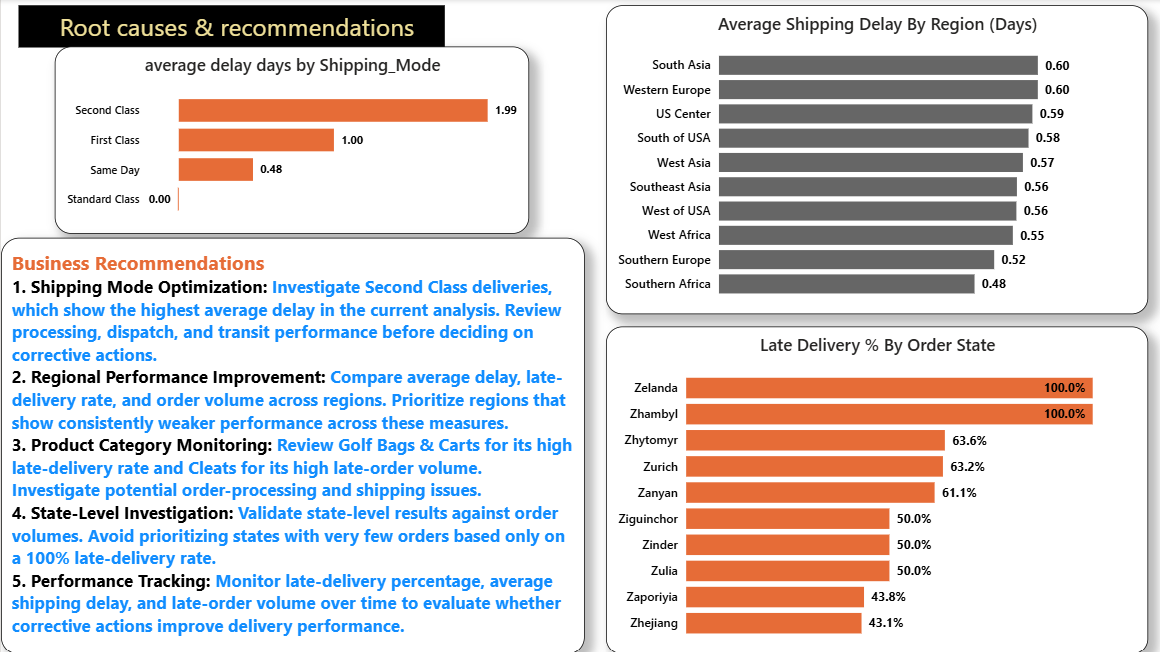

The dashboard page shown, as its layout file describes it:
{"tool":"powerbi","page":{"name":"Page 3","canvas":[1280,720],"ordinal":2},"visuals":[{"type":"textbox","box":[19.8,6.6,468,46.1],"z":0},{"type":"clusteredBarChart","title":"Average Shipping Delay By Region (Days)","fields":{"Category":["DataCoSupplyChainDataset1.Order_Region"],"Y":["DataCoSupplyChainDataset1.average delay days"]},"box":[664.1,6.6,594.9,339.4],"z":1000},{"type":"clusteredBarChart","fields":{"Category":["DataCoSupplyChainDataset1.Shipping_Mode"],"Y":["DataCoSupplyChainDataset1.average delay days"]},"box":[59.3,52.7,520.7,206],"z":2000},{"type":"clusteredBarChart","title":"Late Delivery % By Order State","fields":{"Category":["DataCoSupplyChainDataset1.Order_State"],"Y":["DataCoSupplyChainDataset1.Late Delivery %"]},"box":[664.1,359.2,594.9,360.9],"z":3000},{"type":"textbox","box":[0,262,641,458.1],"z":4000}]}

Visuals, with their boxes in screenshot pixels (x1, y1, x2, y2), scaled from the page's 1280x720 canvas onto the 1160x652 screenshot:
textbox: 18,6,442,48
"Average Shipping Delay By Region (Days)" clusteredBarChart: 602,6,1141,313
clusteredBarChart - DataCoSupplyChainDataset1.Shipping_Mode x DataCoSupplyChainDataset1.average delay days: 54,48,526,234
"Late Delivery % By Order State" clusteredBarChart: 602,325,1141,651
textbox: 0,237,581,651
